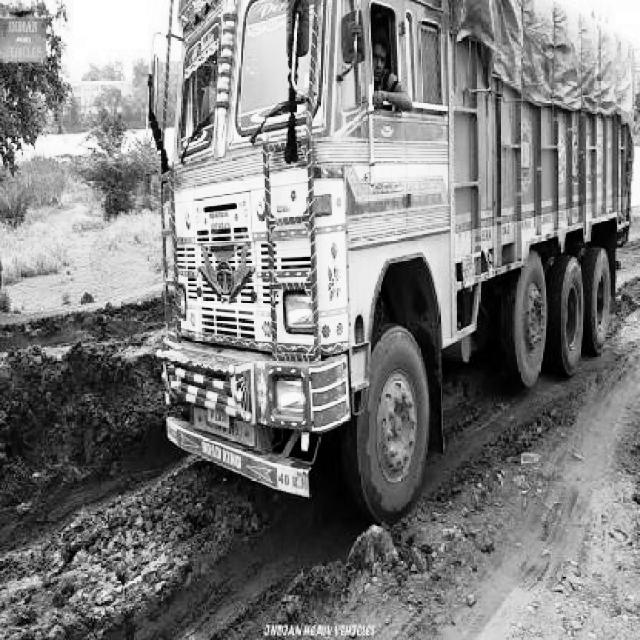HCV: (156, 4, 640, 470)
